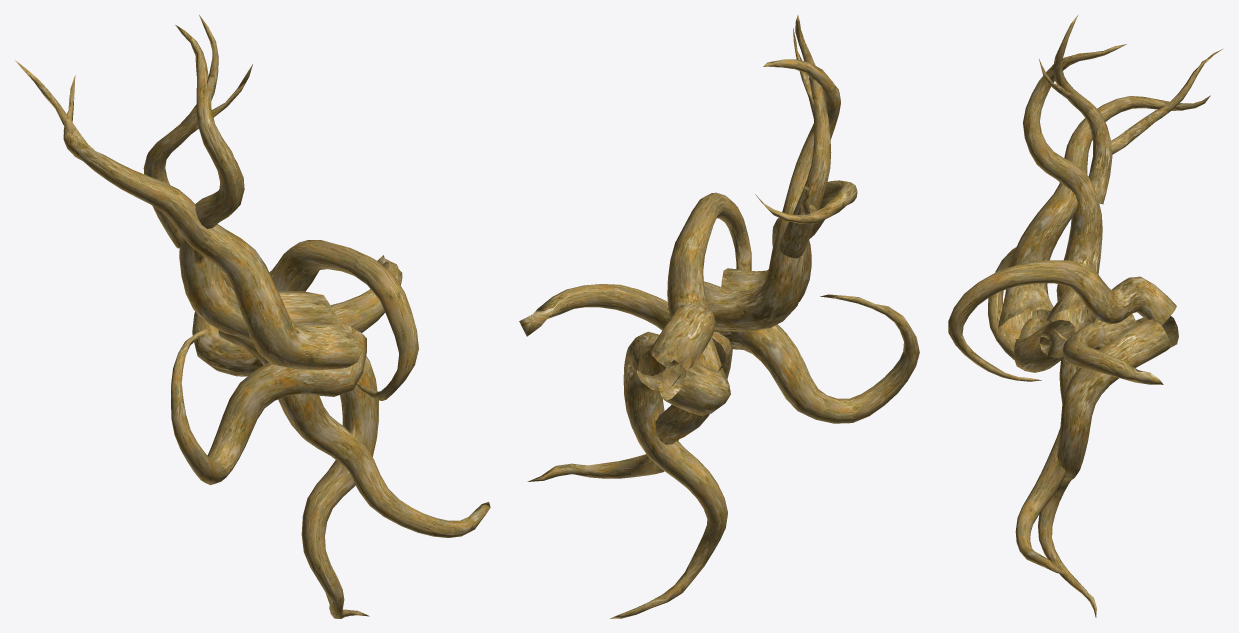
Rendered from NaveeBioSkib17_CleanUp_x02_Roedder4_glb05.glb.
The picture shows the model from 3 angles, left to right: view 1: azimuth 30°, elevation 25°; view 2: azimuth 150°, elevation 25°; view 3: azimuth 270°, elevation 25°; orthographic projection. The views are drawn at different scales.
Visible parts, largest first — view 1: Grene.005; view 2: Grene.005; view 3: Grene.005.
Boxes of the visible parts, x1,y1,x2,y2 form: Grene.005: (15, 15, 490, 618); Grene.005: (519, 15, 919, 618); Grene.005: (948, 14, 1223, 617).
Bounding box in the file's own units: 0.4269 × 0.706 × 0.3323.
Materials: 1 (1 with a texture image).
